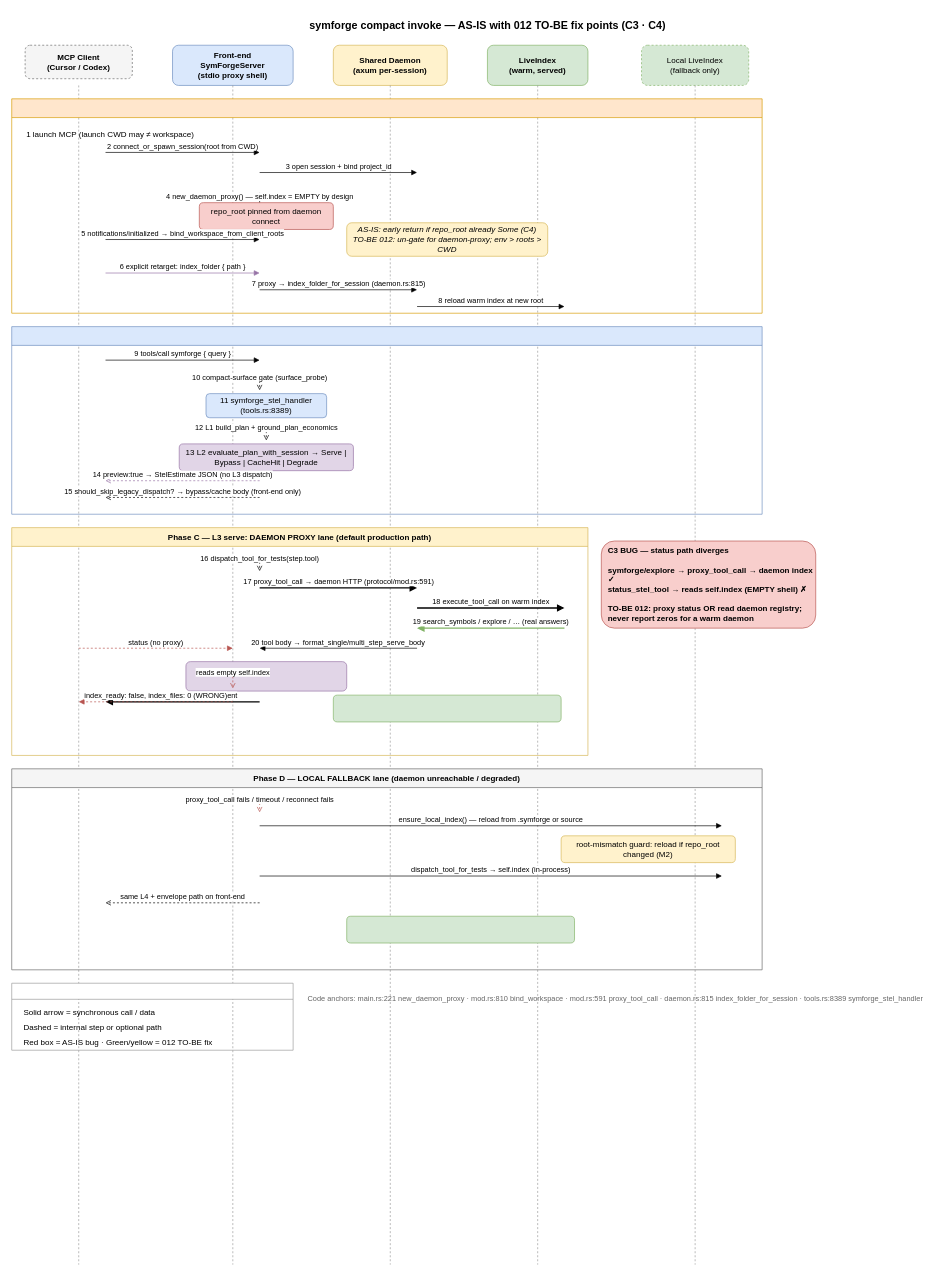
Some shapes in this 935 by 1277 pixel diagram are drawn without their labels. Each missing label, with the box of its shape:
21 finalize_symforge_with_ledger → L4 SessionLedger + envelope: (185, 661, 347, 691)
Legend: (11, 983, 293, 1050)
Phase A — Startup & binding (C4 lives here): (11, 98, 762, 313)
Phase B — symforge_facade_tool → STEL L1/L2 (both lanes): (11, 326, 762, 514)
status reads self.index — CORRECT in this lane (index was loaded): (346, 916, 575, 943)
TO-BE 012: envelope + status include project_root (bound-root visibility): (333, 694, 561, 722)
